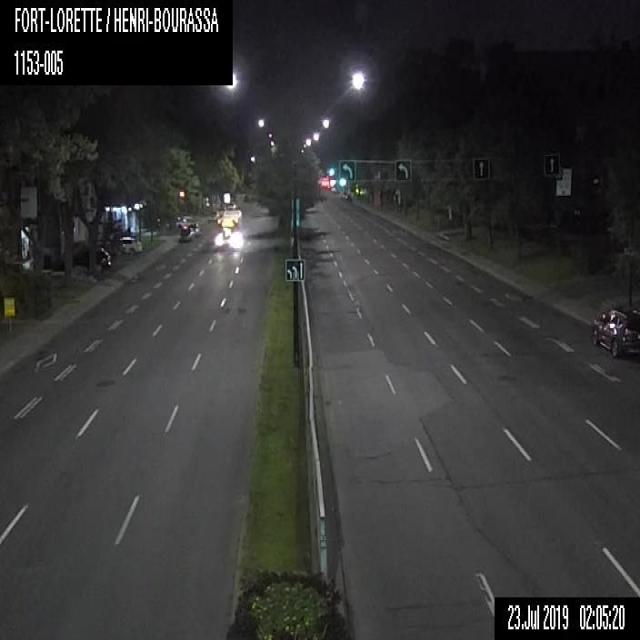vehicle: (591, 305, 639, 359), (63, 248, 110, 274), (115, 233, 142, 256), (178, 225, 192, 241), (189, 222, 199, 236), (340, 191, 347, 203), (344, 192, 352, 202)
